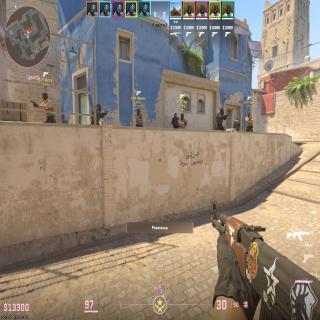CT-Body: (90, 102, 102, 125), (215, 107, 225, 130), (172, 112, 180, 128), (233, 118, 240, 130)
CT-Head: (96, 102, 102, 111), (220, 108, 224, 114), (174, 113, 178, 117), (236, 118, 239, 122)
T-Body: (41, 91, 56, 122), (134, 109, 144, 127), (245, 112, 254, 132), (179, 113, 187, 129)
T-Head: (42, 92, 48, 100), (180, 113, 184, 120), (137, 109, 140, 115), (248, 112, 250, 117)
